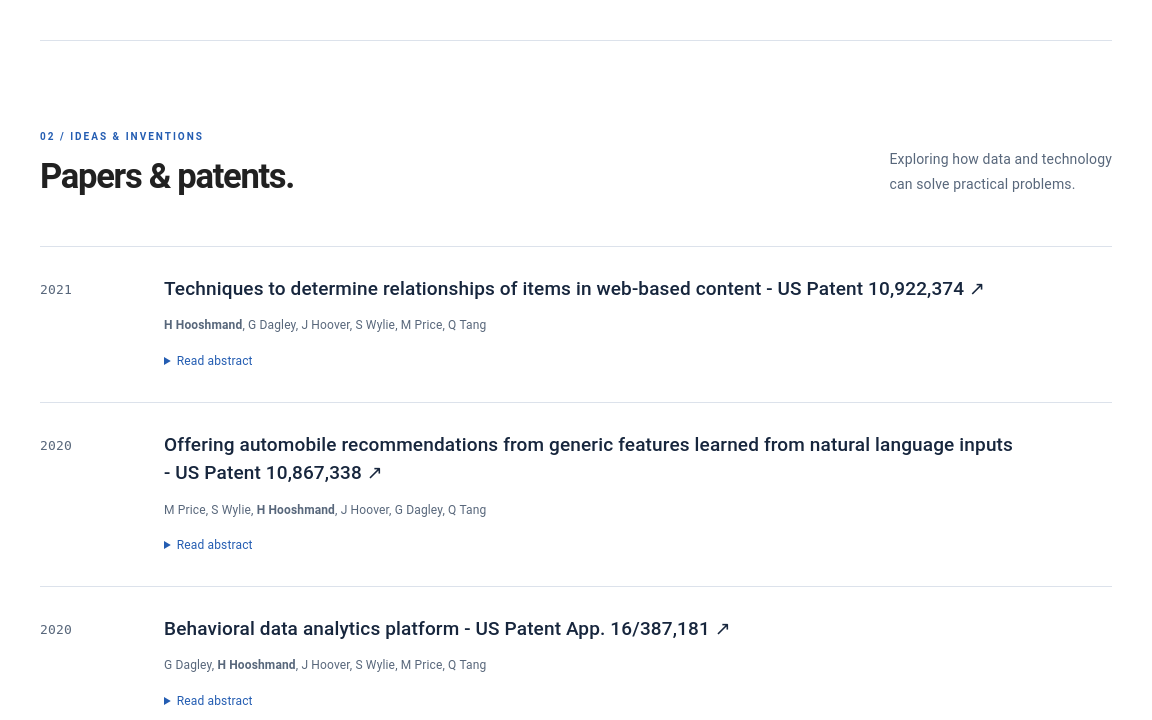
Scenario: readers can expand and collapse publication abstracts
The image size is (1152, 720).
Later steps or results of the test are not shown.
(page scrolled)
Click the heading "Read abstract" below "2021". click: (215, 360)
box: top-left (177, 354), bottom-right (253, 368)
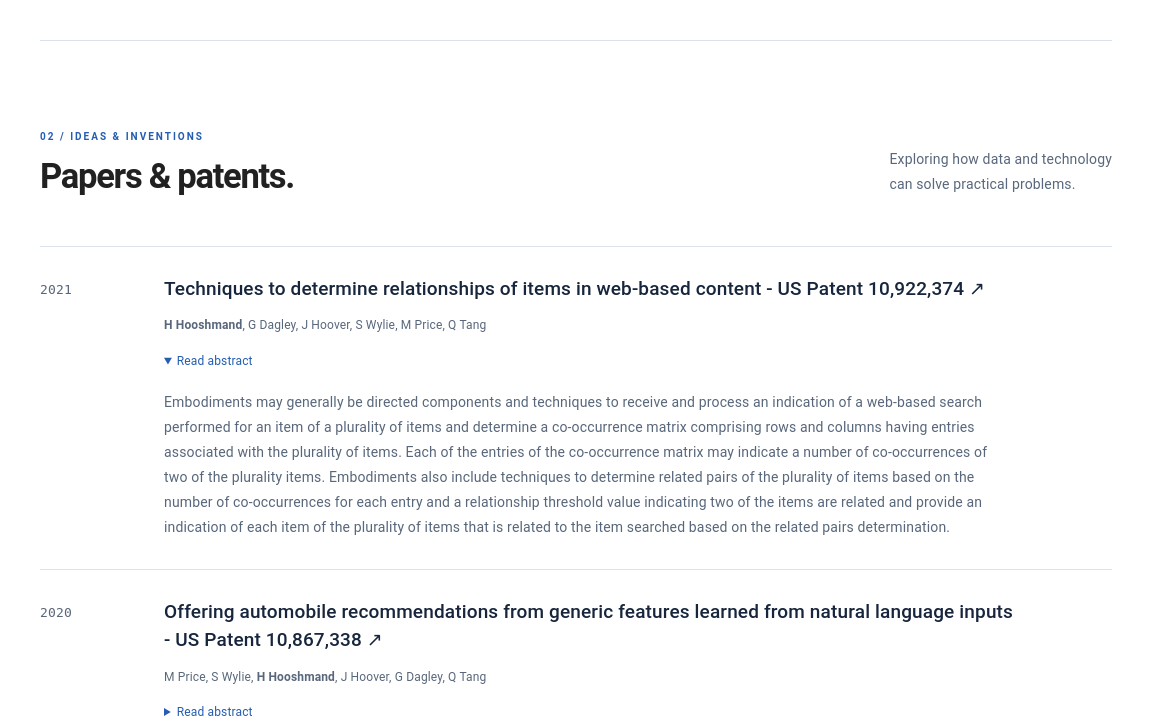
Check: the text "Read abstract" has attribute open, box top-left (164, 348), bottom-right (1112, 541)
